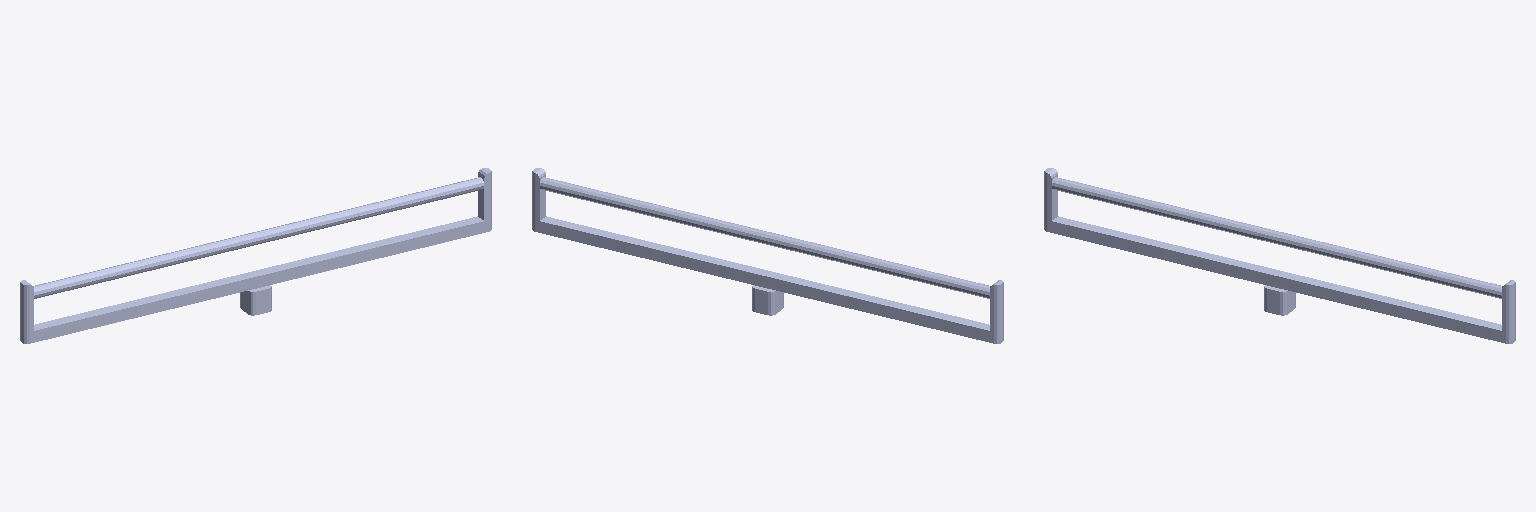
robot.urdf — stand:
<robot
  name="stand">
  <link
    name="stand">
    <inertial>
      <origin
        xyz="-2.879E-16 3.75073144169983E-17 0.078463"
        rpy="0 0 0" />
      <mass
        value="1.0356" />
      <inertia
        ixx="0.00182223142735174"
        ixy="4.12334734934176E-19"
        ixz="-9.25906326235474E-18"
        iyy="0.097952048263061"
        iyz="-8.11897527850453E-19"
        izz="0.0962757383045765" />
    </inertial>
    <visual>
      <origin
        xyz="0 0 0"
        rpy="1.5707963267949 0 0" />
      <geometry>
        <mesh
          filename="package://stand/meshes/stand.STL" />
      </geometry>
      <material
        name="">
        <color
          rgba="0.79216 0.81961 0.93333 1" />
      </material>
    </visual>
    <collision>
      <origin
        xyz="0 0 0"
        rpy="1.5707963267949 0 0" />
      <geometry>
        <mesh
          filename="package://stand/meshes/stand.STL" />
      </geometry>
    </collision>
  </link>
</robot>

--- What the picture shows (computed from the rendered views, not written in the file) ---
The picture shows the robot from 3 angles, left to right: view 1: azimuth 30°, elevation 25°; view 2: azimuth 150°, elevation 25°; view 3: azimuth 330°, elevation 25°; orthographic projection.
Model stand with 1 links and 0 joints (none), rooted at stand, posed all joints at 0.
Links seen in each view (by area): view 1: stand; view 2: stand; view 3: stand.
Boxes of the visible links, left/top/right/bottom form: stand: left=20, top=168, right=491, bottom=343; stand: left=532, top=168, right=1003, bottom=343; stand: left=1044, top=168, right=1515, bottom=343.
Size in the robot's own frame: 1.04 by 0.05 by 0.175 metres.
Meshes: 1 distinct files referenced, 1 mesh visuals loaded (1 binary STL).